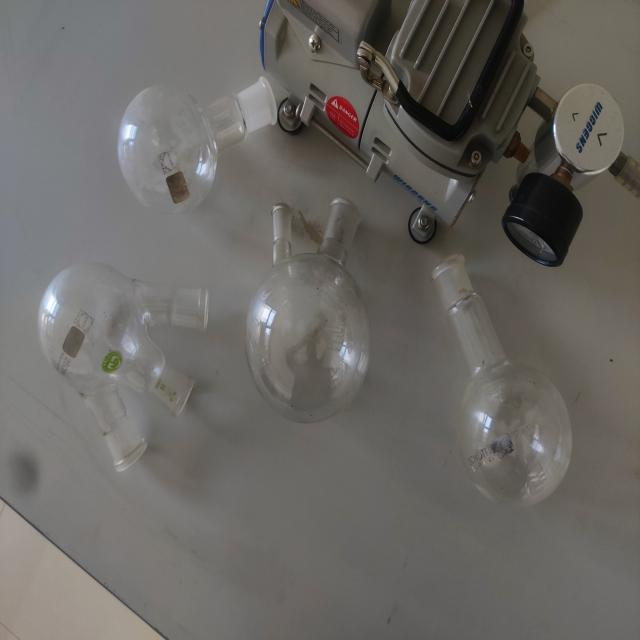Round_Bottom_Flask_Borosilicate_Glass_1_Neck: (410, 224, 604, 543), (86, 28, 298, 226)
Round_Bottom_Flask_Borosilicate_Glass_2_Neck: (240, 165, 381, 456)
Round_Bottom_Flask_Borosilicate_Glass_3_Neck: (17, 224, 218, 496)
